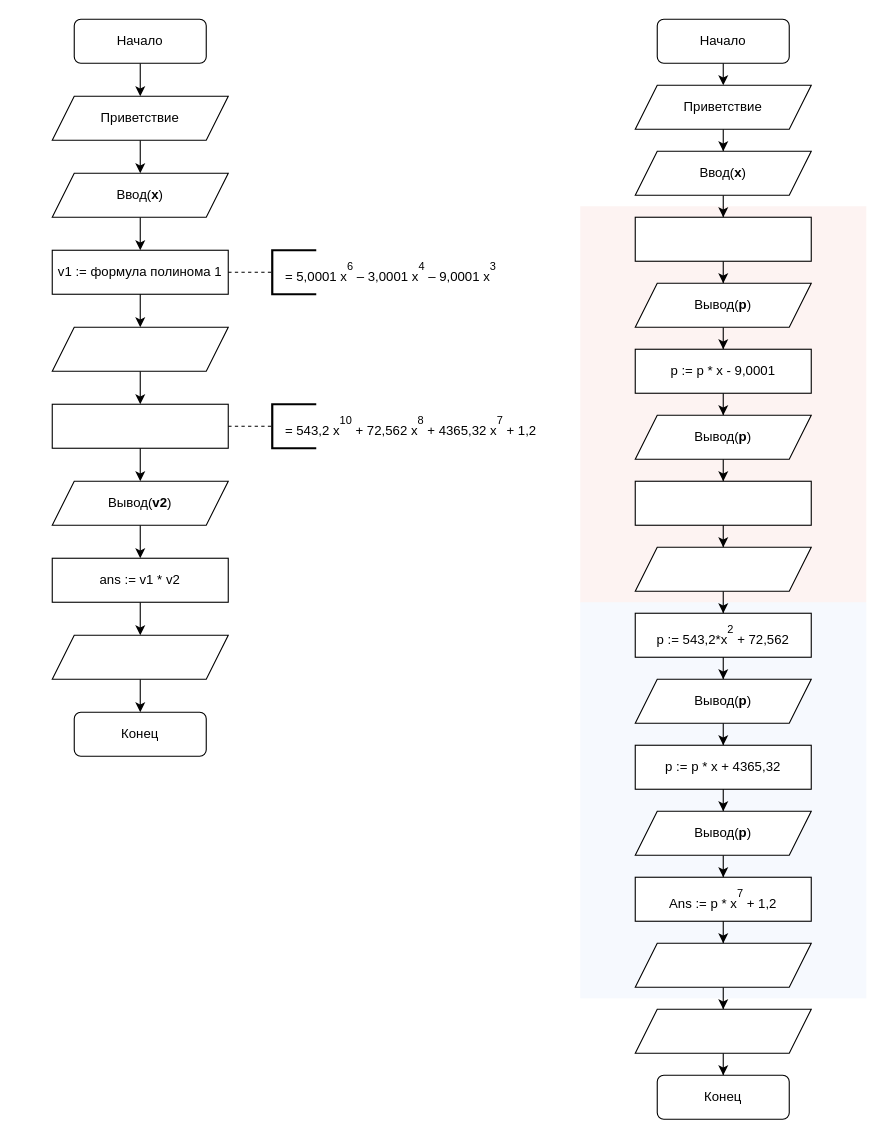
Image size: 884x1139. Some labels were removed from this diagram. Each missing label, with the box of its shape:
Ans1 := p * x 3: (634, 480, 811, 525)
p := 5.0001 * x 2 - 3.0001: (634, 216, 811, 261)
v2 : = формула полинома 2: (51, 403, 228, 448)
Вывод( ans ): (51, 634, 228, 679)
Вывод( Ans1 ): (634, 546, 811, 591)
Вывод( Ans1*Ans2 ): (634, 1008, 811, 1053)
Вывод( Ans2 ): (634, 942, 811, 987)
Вывод( v1 ): (51, 326, 228, 371)
